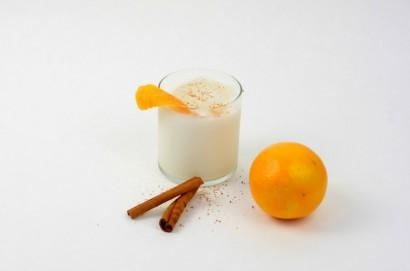background: (51, 34, 209, 93), (69, 32, 154, 77)
